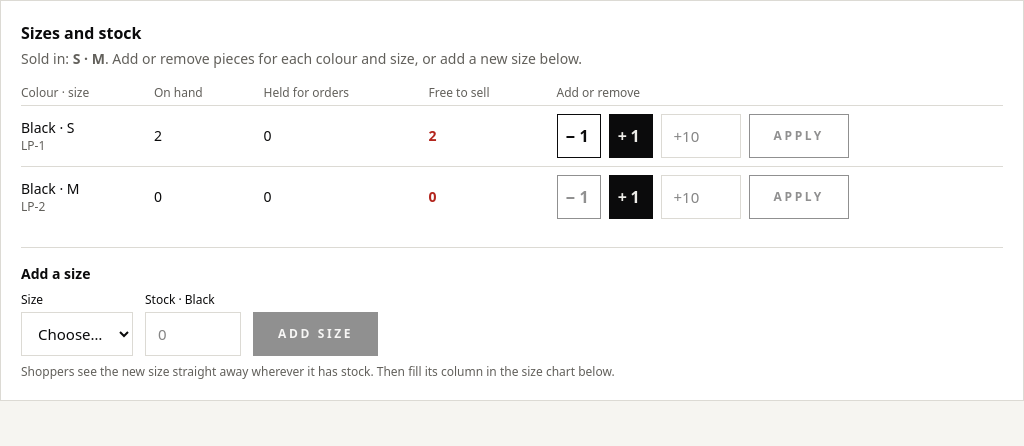
sizes and stock while editing › offers only the sizes not sold yet and adds one with its stock
Select "L" in the dropdown at (77, 334), box x1=21 y1=312 x2=133 y2=356
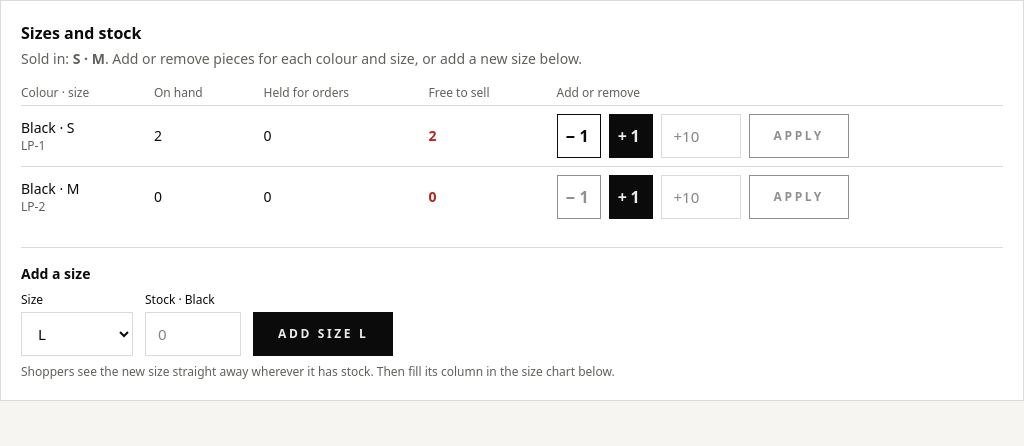
Type "5" into the number field labelled "Stock · Black" at (193, 334), box x1=145 y1=312 x2=241 y2=356
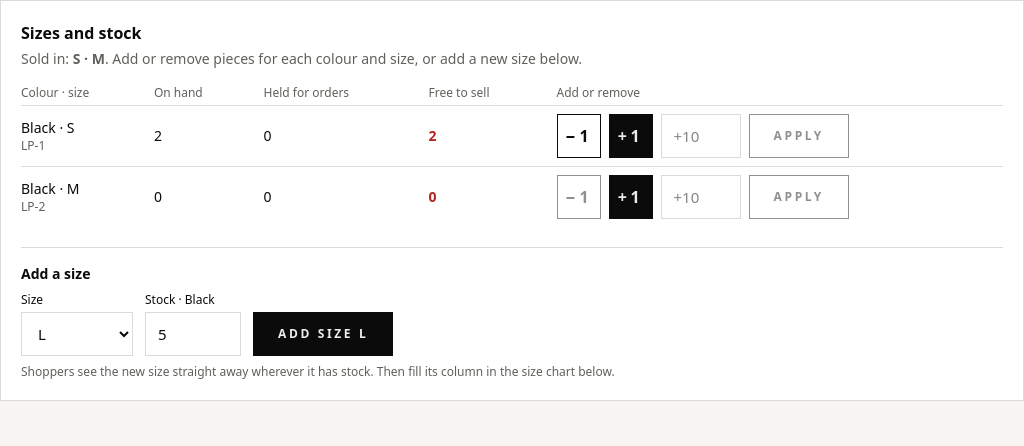
Click the button "Add size L" at (323, 334), box x1=253 y1=312 x2=393 y2=356
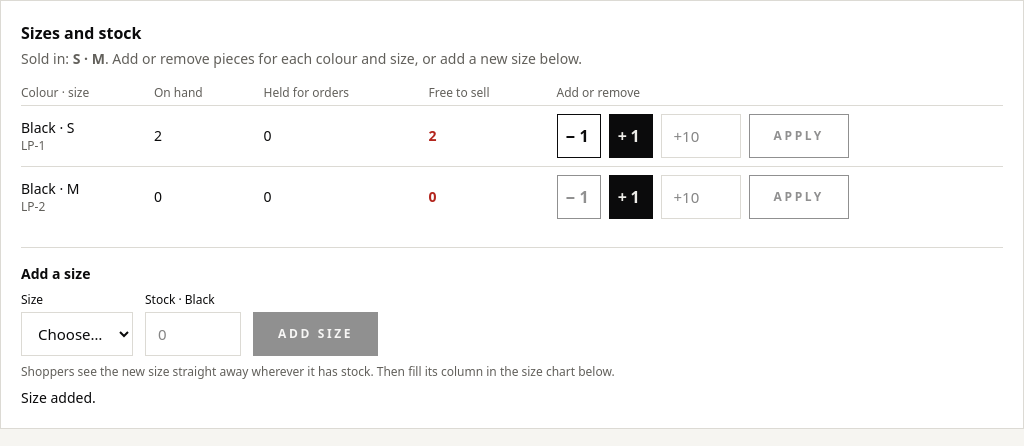
Expected: the text "Size added." is shown, x1=21 y1=388 x2=96 y2=407
